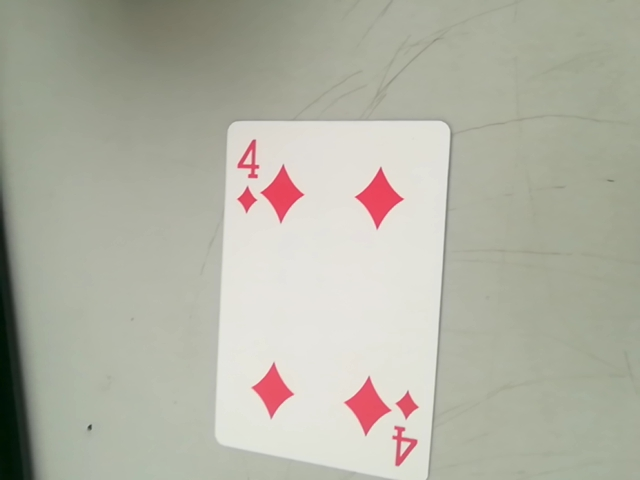fk 4: (228, 134, 271, 222), (387, 393, 423, 480)
